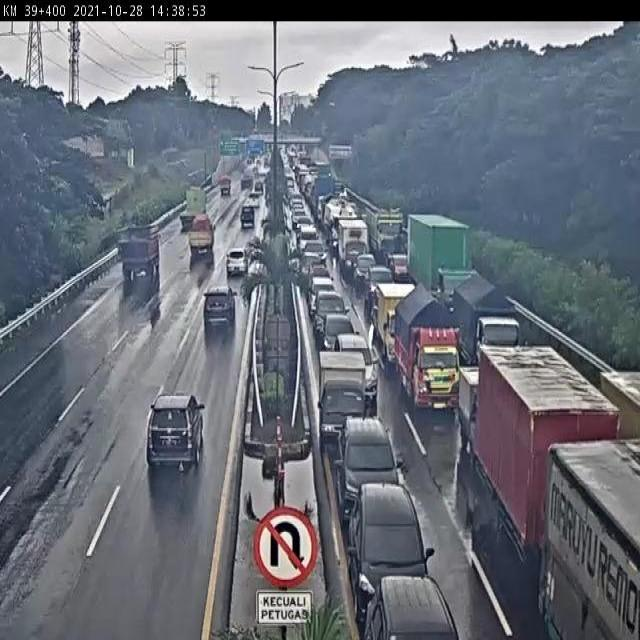big truck: (479, 345, 626, 595), (405, 212, 477, 329), (174, 186, 208, 238), (240, 168, 256, 193)
car: (349, 486, 436, 618), (335, 418, 399, 530), (363, 577, 460, 640), (147, 392, 206, 471), (335, 336, 380, 403), (319, 315, 360, 369), (312, 290, 350, 342), (202, 286, 238, 334), (367, 265, 395, 308), (309, 276, 334, 316), (300, 252, 323, 295), (297, 226, 319, 262), (355, 255, 376, 288), (224, 247, 249, 274), (246, 194, 262, 214), (253, 179, 265, 193)
small truck: (393, 287, 462, 416), (450, 274, 520, 378), (458, 365, 521, 468), (317, 348, 369, 449), (377, 283, 420, 369), (116, 224, 164, 283), (339, 220, 369, 276), (186, 215, 217, 265), (239, 204, 256, 231), (218, 177, 234, 200)
